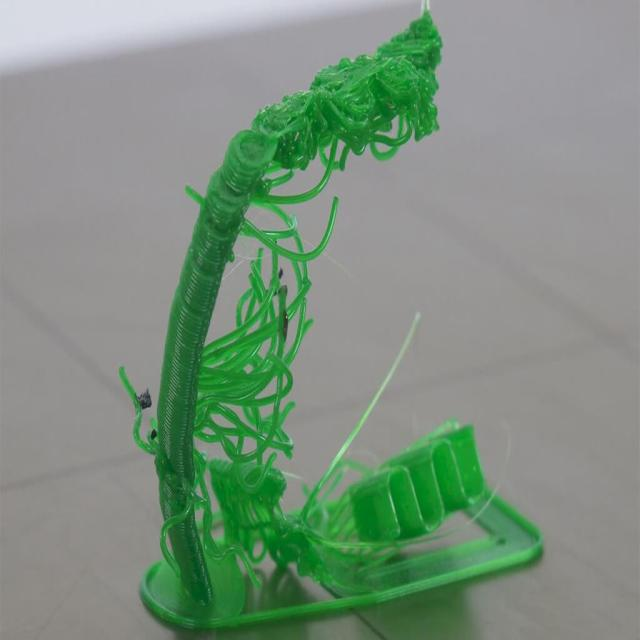spaghetti: (228, 53, 522, 209)
